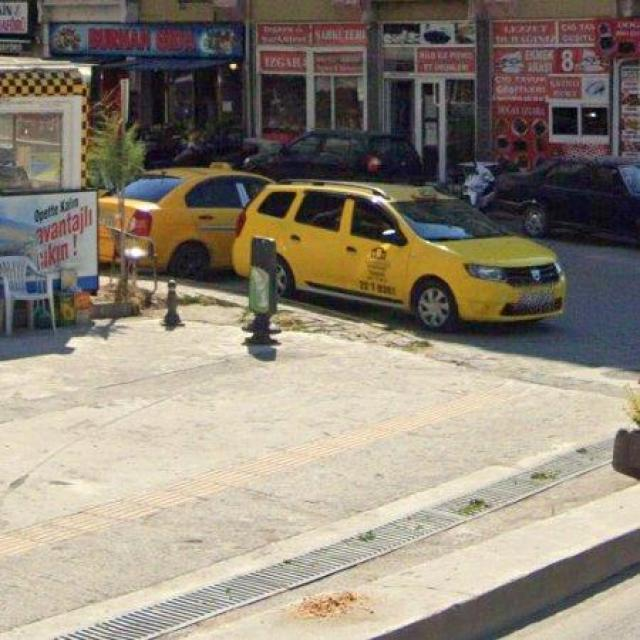Fire: (125, 165, 270, 278), (98, 195, 121, 262)
Taxi: (233, 182, 567, 331)
